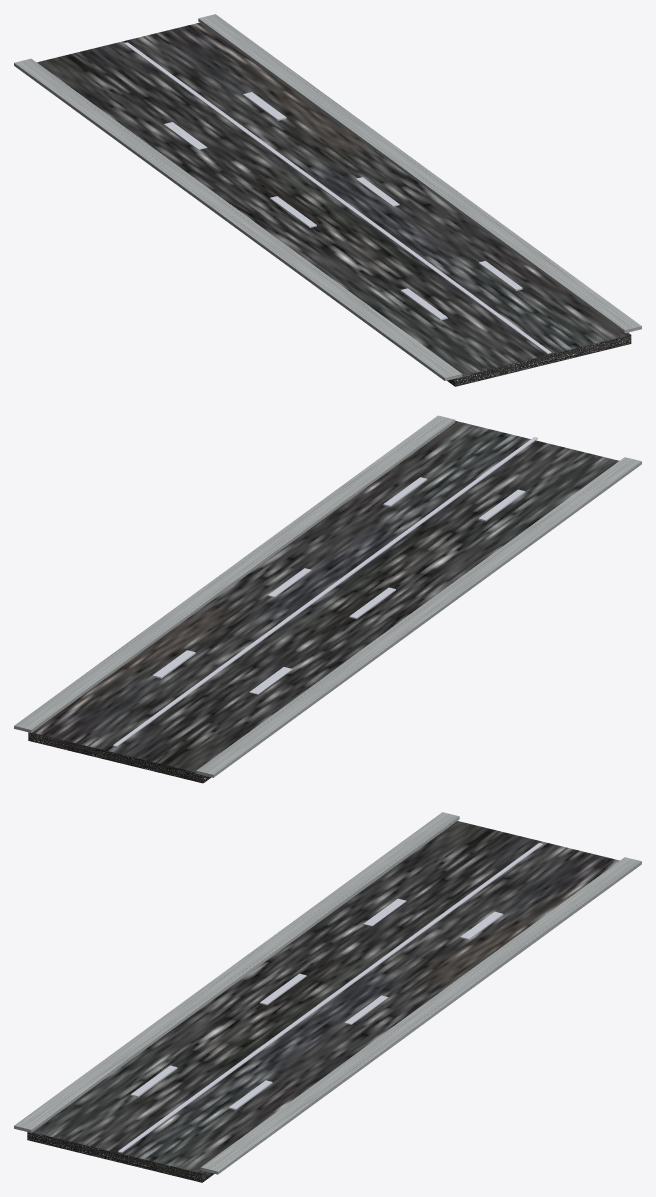
File: calle2.glb
3 renders of one model, top to bottom at view 1: azimuth 30°, elevation 25°; view 2: azimuth 150°, elevation 25°; view 3: azimuth 330°, elevation 25°, orthographic.
Parts seen in each view (by area): view 1: Cubo, Cubo.004, Cubo.003, Cubo.001; view 2: Cubo, Cubo.004, Cubo.003, Cubo.001; view 3: Cubo, Cubo.004, Cubo.003, Cubo.001.
Boxes of the visible parts, x1,y1,x2,y2 form: Cubo: (37, 22, 631, 386); Cubo.004: (14, 58, 462, 380); Cubo.003: (198, 14, 641, 333); Cubo.001: (124, 42, 551, 354); Cubo: (28, 421, 619, 783); Cubo.004: (196, 457, 641, 777); Cubo.003: (14, 415, 455, 732); Cubo.001: (113, 437, 537, 746); Cubo: (27, 821, 619, 1182); Cubo.004: (14, 812, 459, 1132); Cubo.003: (200, 857, 641, 1174); Cubo.001: (118, 843, 542, 1152).
Size of the model in its own units: 45.82 by 2.93 by 170.
Materials: 4 (3 with a texture image).
